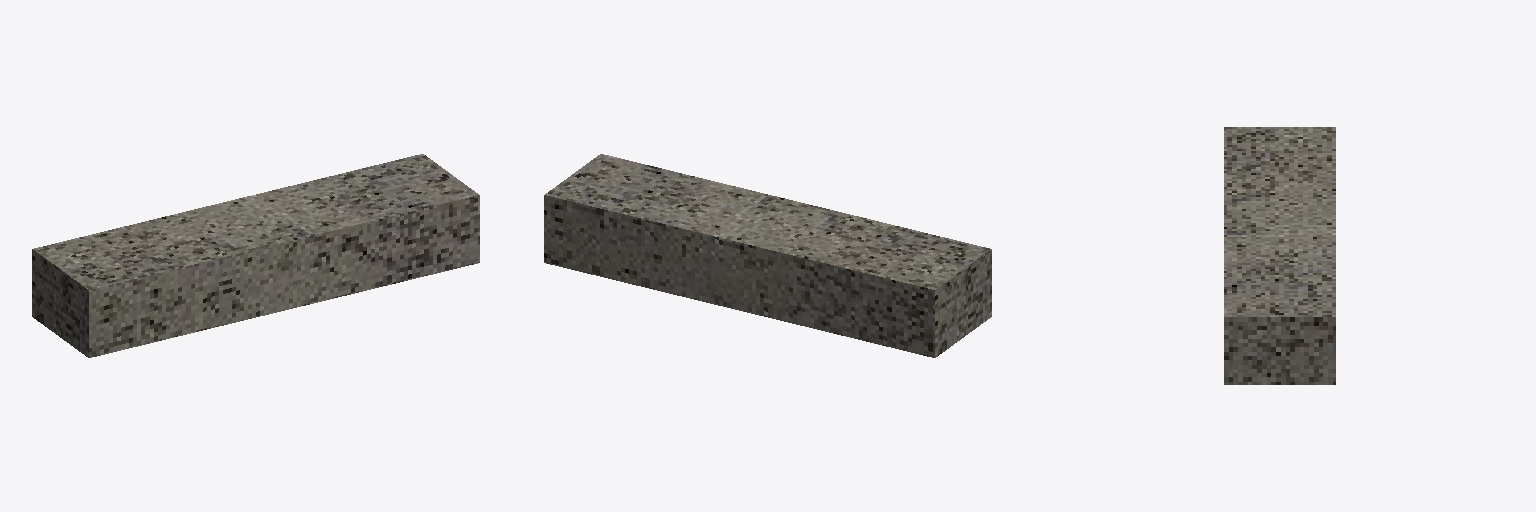
The picture shows the model from 3 angles: view 1: azimuth 30°, elevation 25°; view 2: azimuth 150°, elevation 25°; view 3: azimuth 270°, elevation 25°; orthographic projection.
Bounding box in the file's own units: 1 × 0.1667 × 0.25.
1 materials, 1 textured.